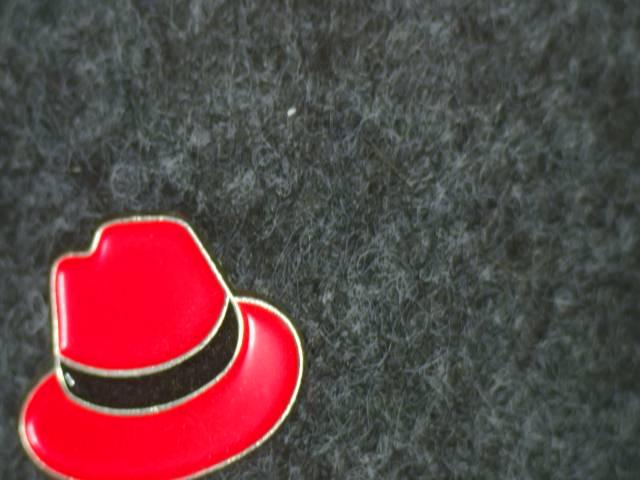Red-Hat: (10, 195, 332, 480)
